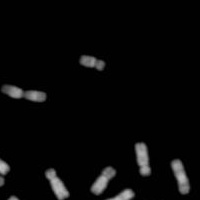chromosome: (44, 167, 69, 200), (0, 84, 45, 102), (90, 167, 115, 195), (171, 160, 191, 193), (134, 142, 149, 175), (99, 188, 134, 200), (79, 55, 104, 70), (0, 155, 10, 175), (6, 195, 29, 200), (0, 175, 4, 186)
